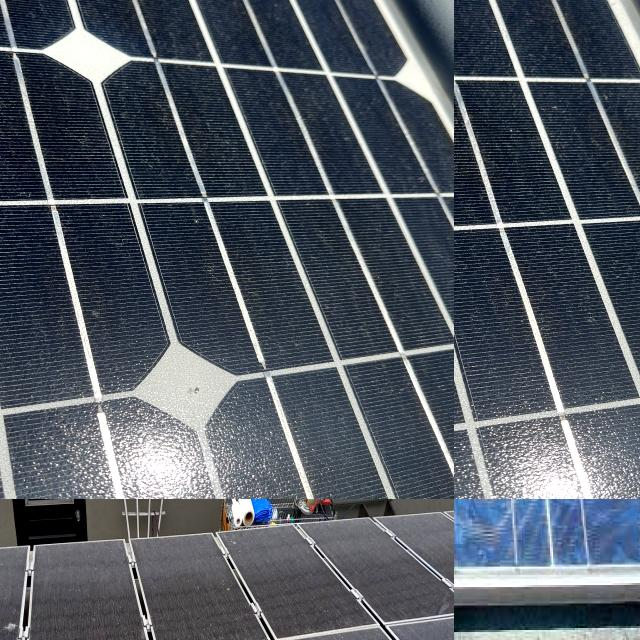crack: (0, 0, 454, 499), (454, 0, 640, 499)
dust: (42, 545, 244, 640), (274, 531, 454, 607), (267, 606, 454, 640), (0, 553, 40, 640)
shadow: (490, 499, 586, 543), (503, 499, 579, 537), (491, 499, 566, 526), (454, 499, 489, 536), (454, 499, 493, 531)
